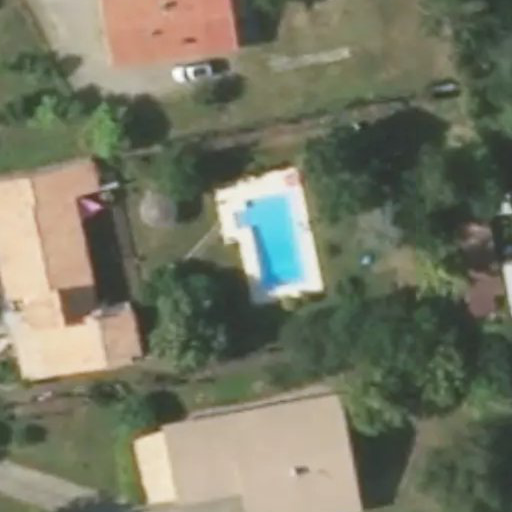pool: (222, 201, 289, 282)
